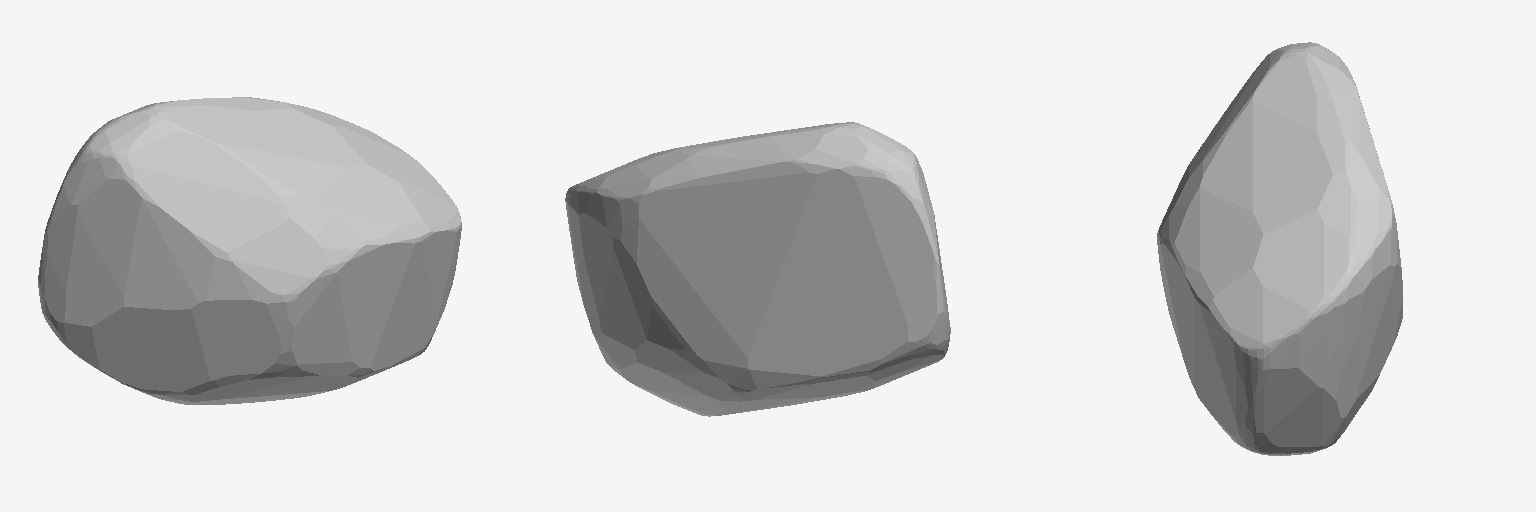
File: 413_Edburga_354.obj
The picture shows the model from 3 angles: view 1: azimuth 30°, elevation 25°; view 2: azimuth 150°, elevation 25°; view 3: azimuth 270°, elevation 25°; orthographic projection.
Parts seen in each view (by area): view 1: 413_Edburga_354; view 2: 413_Edburga_354; view 3: 413_Edburga_354.
Part boxes in pixels (x1,y1,x2,y2): 413_Edburga_354: (38, 97, 461, 404); 413_Edburga_354: (565, 122, 950, 416); 413_Edburga_354: (1157, 42, 1402, 455).
Size of the model in its own units: 1.77 by 1.38 by 0.9629.